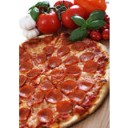pepperonipizza: (20, 34, 110, 128)
